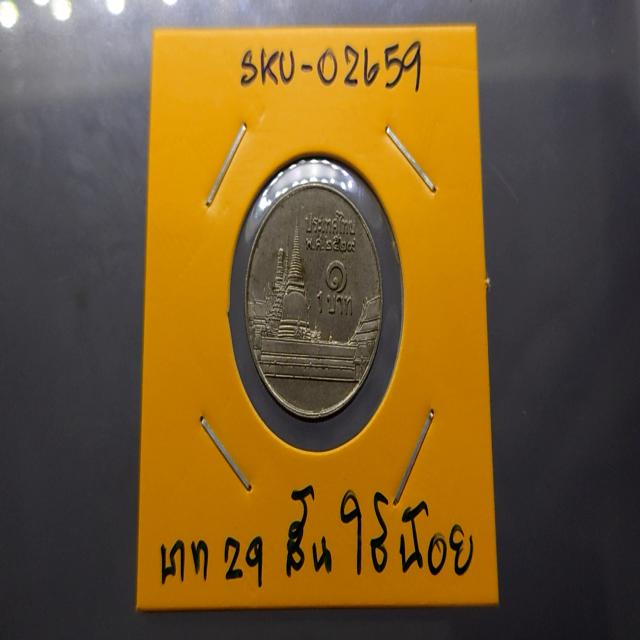1 Bath: (242, 182, 391, 429)
